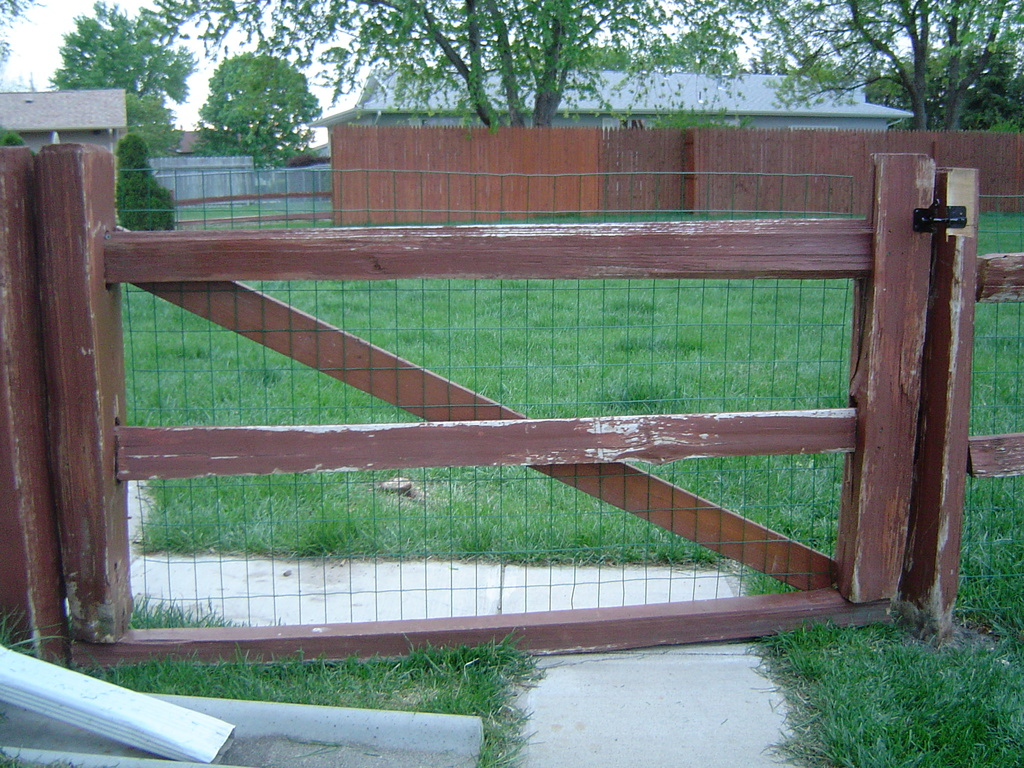Tree: (138, 0, 898, 141), (768, 0, 1024, 129), (39, 0, 200, 155), (187, 50, 319, 169), (113, 132, 176, 231)
